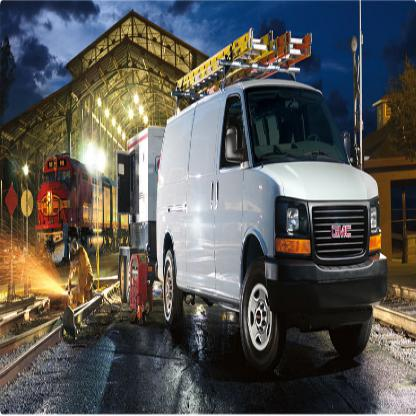Vehicle: (156, 79, 389, 373)
